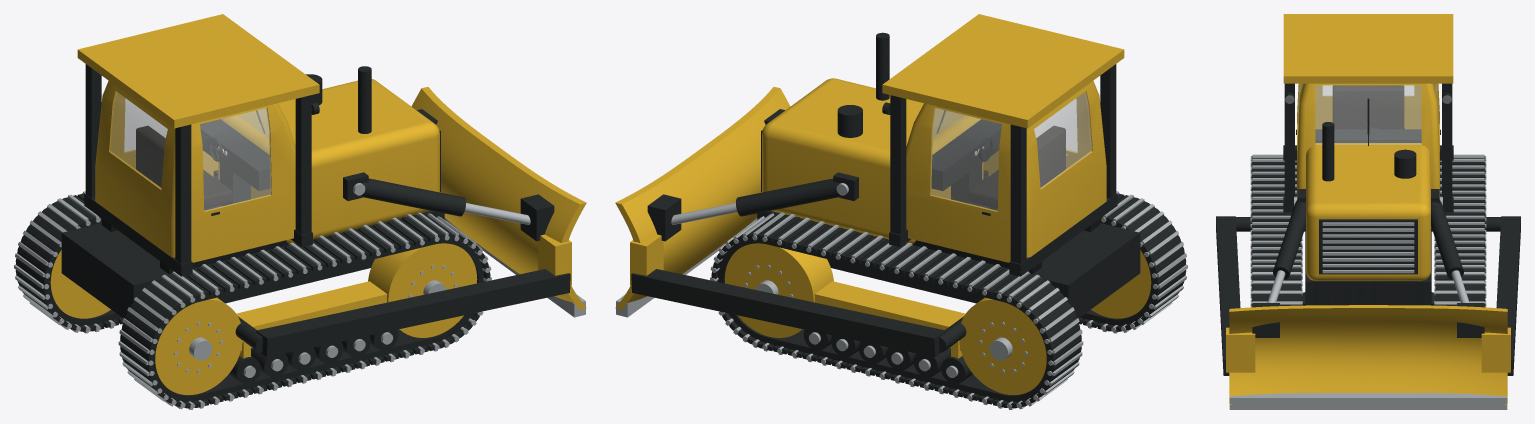
The model's file is dozer.glb.
3 views of the same model, side by side, from view 1: azimuth 30°, elevation 25°; view 2: azimuth 150°, elevation 25°; view 3: azimuth 270°, elevation 25° (orthographic). The views are drawn at different scales.
Visible parts, largest first — view 1: Dozer protected operator cab hollow rounded shell with actua, Dozer finite overhead protection canopy, Dozer shaped front engine bonnet, Dozer finite dished blade, Dozer blade push arm -1, Dozer continuous lower chassis, Dozer protected operator cab fitted right window, Dozer -1 end drive idler wheel -1450, Dozer -1 end drive idler wheel 1450, Dozer -1 finite closed running track belt, Dozer protected operator cab fitted rear window, Dozer -1 boxed roller support frame (+21 smaller); view 2: Dozer protected operator cab hollow rounded shell with actua, Dozer finite overhead protection canopy, Dozer shaped front engine bonnet, Dozer finite dished blade, Dozer blade push arm 1, Dozer continuous lower chassis, Dozer protected operator cab fitted left window, Dozer 1 end drive idler wheel -1450, Dozer 1 end drive idler wheel 1450, Dozer 1 finite closed running track belt, Dozer protected operator cab fitted rear window, Dozer 1 boxed roller support frame (+22 smaller); view 3: Dozer finite dished blade, Dozer finite overhead protection canopy, Dozer shaped front engine bonnet, Dozer protected operator cab fitted windscreen, Dozer protected operator cab hollow rounded shell with actua, Dozer replaceable lower cutting edge, Dozer finite front radiator grille, Dozer continuous lower chassis, Dozer protected operator cab padded seat back, Dozer blade push arm 1, Dozer blade push arm -1, Dozer protected operator cab seated instrument bridge (+27 smaller).
Boxes of the visible parts, x1=… form: Dozer protected operator cab hollow rounded shell with actua: x1=95, y1=81, x2=295, y2=262; Dozer finite overhead protection canopy: x1=77, y1=14, x2=319, y2=128; Dozer shaped front engine bonnet: x1=218, y1=79, x2=439, y2=244; Dozer finite dished blade: x1=411, y1=87, x2=586, y2=309; Dozer blade push arm -1: x1=256, y1=269, x2=570, y2=357; Dozer continuous lower chassis: x1=61, y1=211, x2=444, y2=318; Dozer protected operator cab fitted right window: x1=200, y1=108, x2=271, y2=211; Dozer -1 end drive idler wheel -1450: x1=155, y1=297, x2=242, y2=395; Dozer -1 end drive idler wheel 1450: x1=368, y1=243, x2=477, y2=337; Dozer -1 finite closed running track belt: x1=152, y1=239, x2=483, y2=401; Dozer protected operator cab fitted rear window: x1=110, y1=91, x2=167, y2=188; Dozer -1 boxed roller support frame: x1=236, y1=281, x2=387, y2=350; Dozer protected operator cab hollow rounded shell with actua: x1=906, y1=81, x2=1106, y2=262; Dozer finite overhead protection canopy: x1=882, y1=14, x2=1124, y2=128; Dozer shaped front engine bonnet: x1=762, y1=78, x2=983, y2=244; Dozer finite dished blade: x1=615, y1=87, x2=790, y2=309; Dozer blade push arm 1: x1=631, y1=269, x2=945, y2=357; Dozer continuous lower chassis: x1=757, y1=211, x2=1140, y2=318; Dozer protected operator cab fitted left window: x1=930, y1=108, x2=1001, y2=211; Dozer 1 end drive idler wheel -1450: x1=959, y1=297, x2=1046, y2=395; Dozer 1 end drive idler wheel 1450: x1=724, y1=243, x2=833, y2=337; Dozer 1 finite closed running track belt: x1=718, y1=239, x2=1049, y2=401; Dozer protected operator cab fitted rear window: x1=1034, y1=91, x2=1092, y2=188; Dozer 1 boxed roller support frame: x1=814, y1=281, x2=965, y2=350; Dozer finite dished blade: x1=1229, y1=305, x2=1507, y2=404; Dozer finite overhead protection canopy: x1=1283, y1=14, x2=1453, y2=83; Dozer shaped front engine bonnet: x1=1306, y1=143, x2=1430, y2=280; Dozer protected operator cab fitted windscreen: x1=1315, y1=85, x2=1421, y2=144; Dozer protected operator cab hollow rounded shell with actua: x1=1297, y1=83, x2=1439, y2=196; Dozer replaceable lower cutting edge: x1=1229, y1=393, x2=1507, y2=409; Dozer finite front radiator grille: x1=1319, y1=219, x2=1417, y2=274; Dozer continuous lower chassis: x1=1305, y1=226, x2=1431, y2=305; Dozer protected operator cab padded seat back: x1=1332, y1=85, x2=1404, y2=129; Dozer blade push arm 1: x1=1496, y1=216, x2=1520, y2=375; Dozer blade push arm -1: x1=1216, y1=216, x2=1240, y2=375; Dozer protected operator cab seated instrument bridge: x1=1315, y1=129, x2=1421, y2=142.
Bounding box in the file's own units: 5.29 × 3.28 × 3.72.
9 materials, 9 textured.
